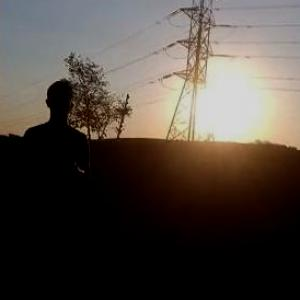follow: (13, 73, 99, 299)
